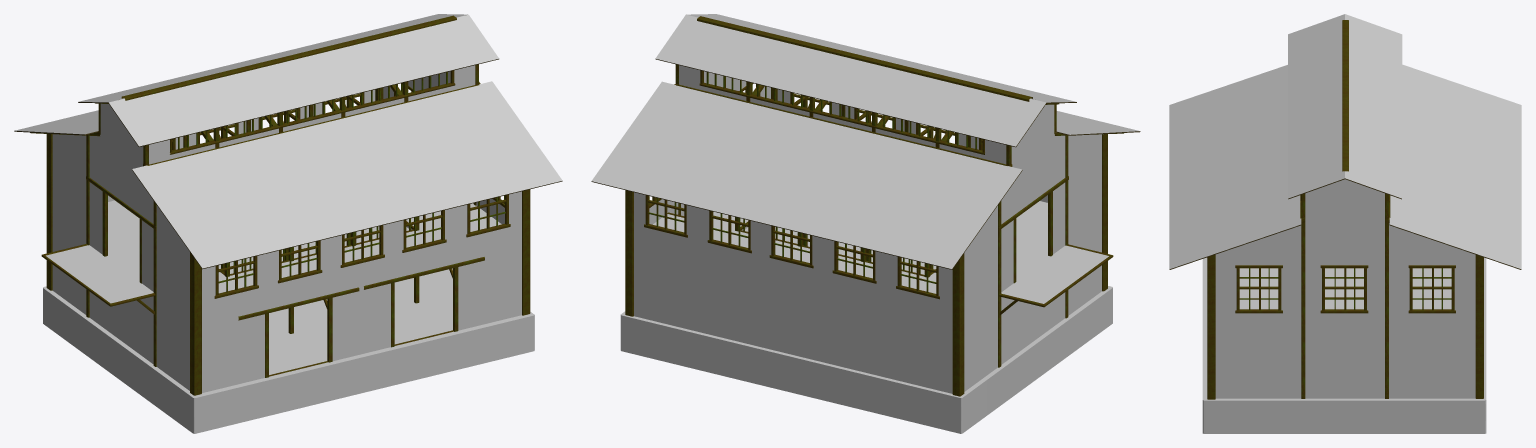
File: GalpaoA_27mai.fbx
The picture shows the model from 3 angles, left to right: view 1: azimuth 30°, elevation 25°; view 2: azimuth 150°, elevation 25°; view 3: azimuth 270°, elevation 25°; orthographic projection. The views are drawn at different scales.
Visible parts, largest first — view 1: window9_pCube758; view 2: window9_pCube758; view 3: window9_pCube758.
Part boxes in pixels (box(x1,y1,x2,y2)): window9_pCube758: box(14, 14, 562, 433); window9_pCube758: box(591, 14, 1140, 433); window9_pCube758: box(1169, 14, 1521, 433).
Bounding box in the file's own units: 2087 × 1417 × 1734.
